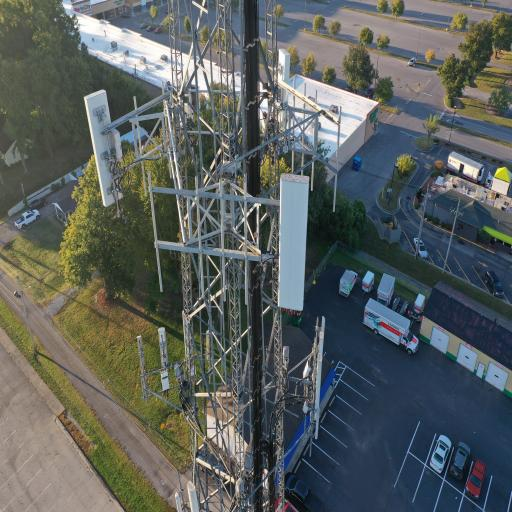supporting_tower: (82, 0, 342, 512)
